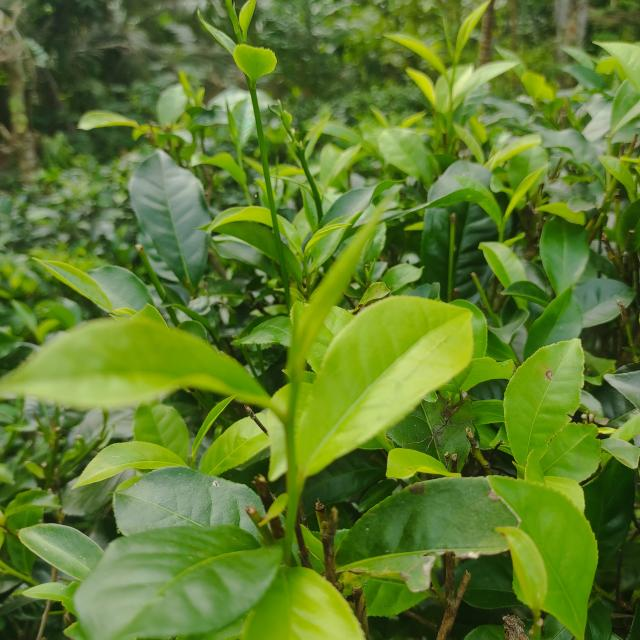unopened_leaf: (284, 184, 404, 389), (438, 9, 460, 67)
